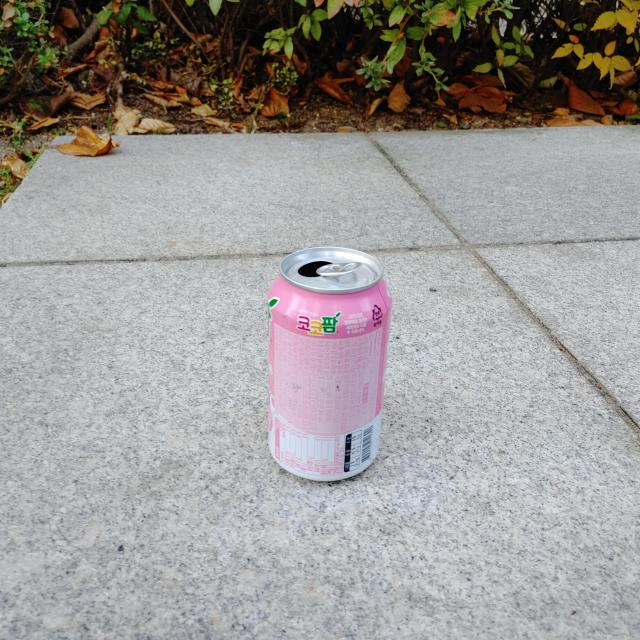can: (269, 247, 392, 482)
